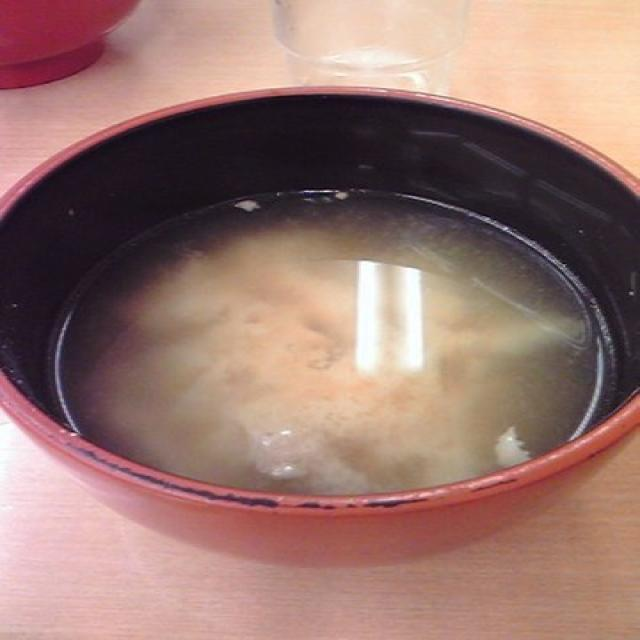汤锅炖物: (0, 72, 640, 604)
